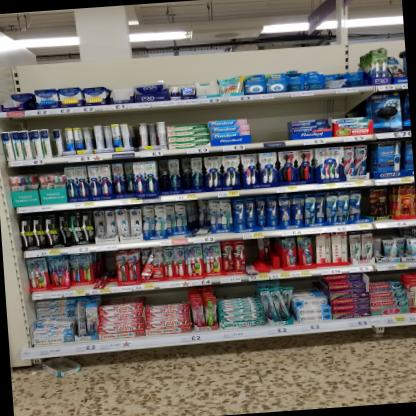empty_space: (248, 100, 290, 142), (102, 254, 119, 284)
